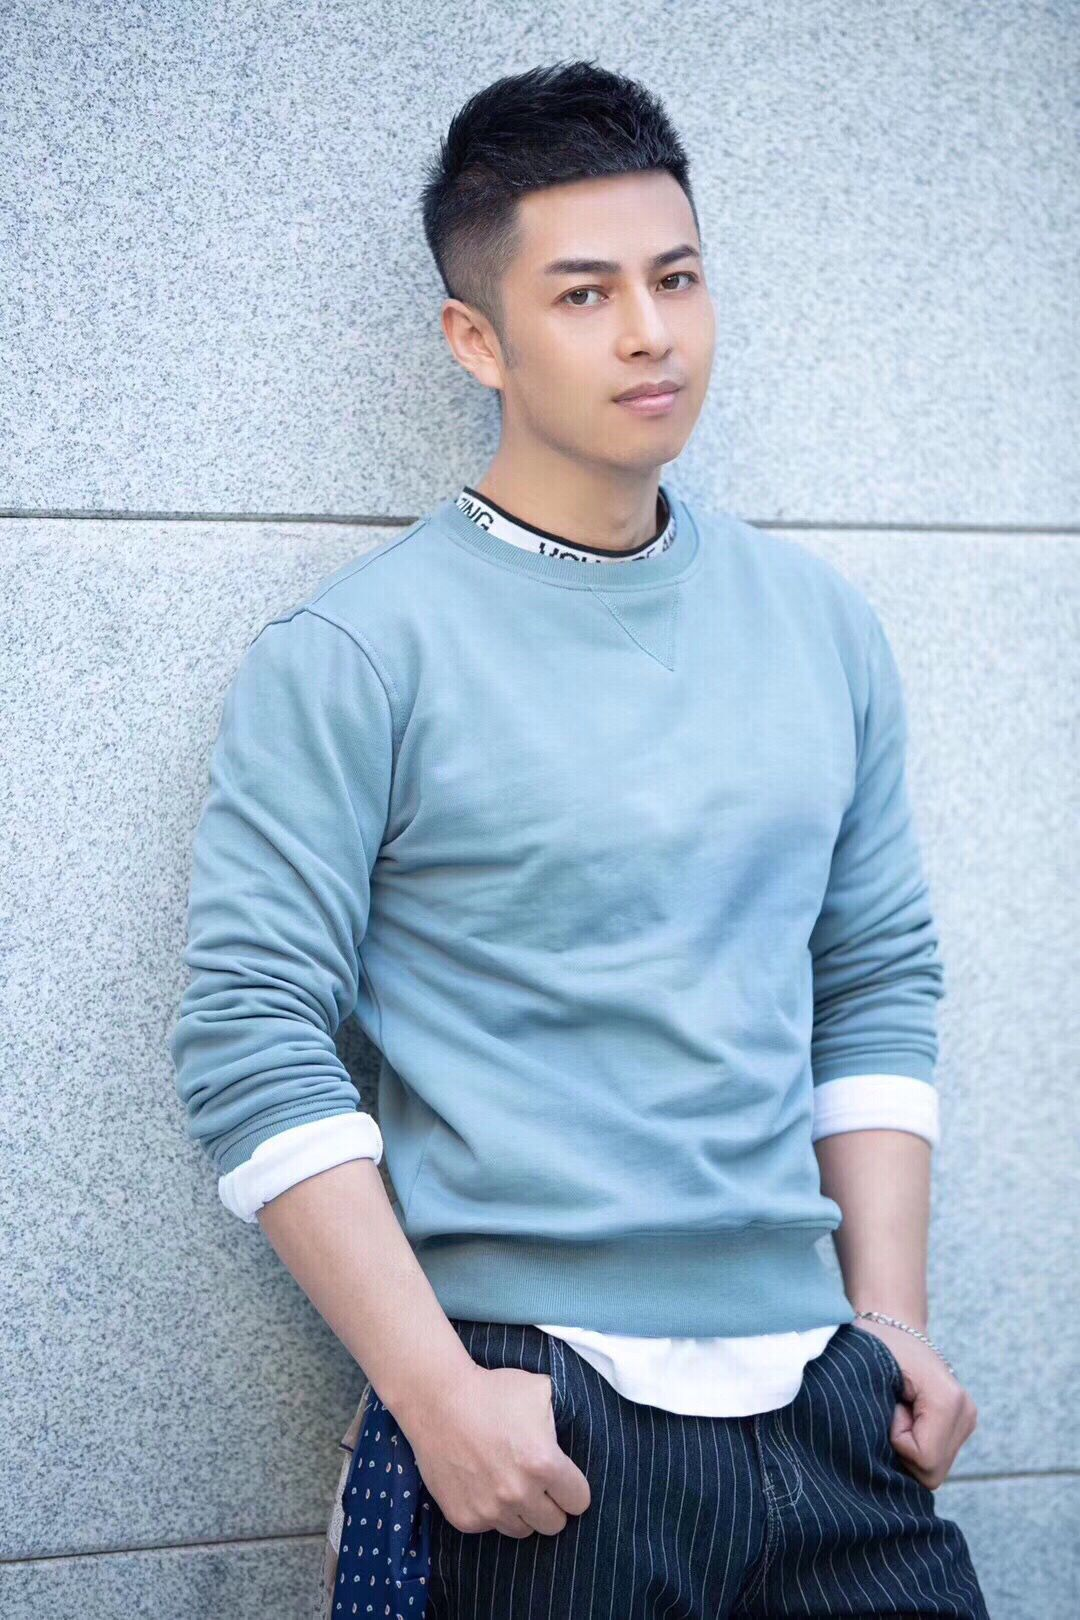person: (185, 49, 956, 1520)
